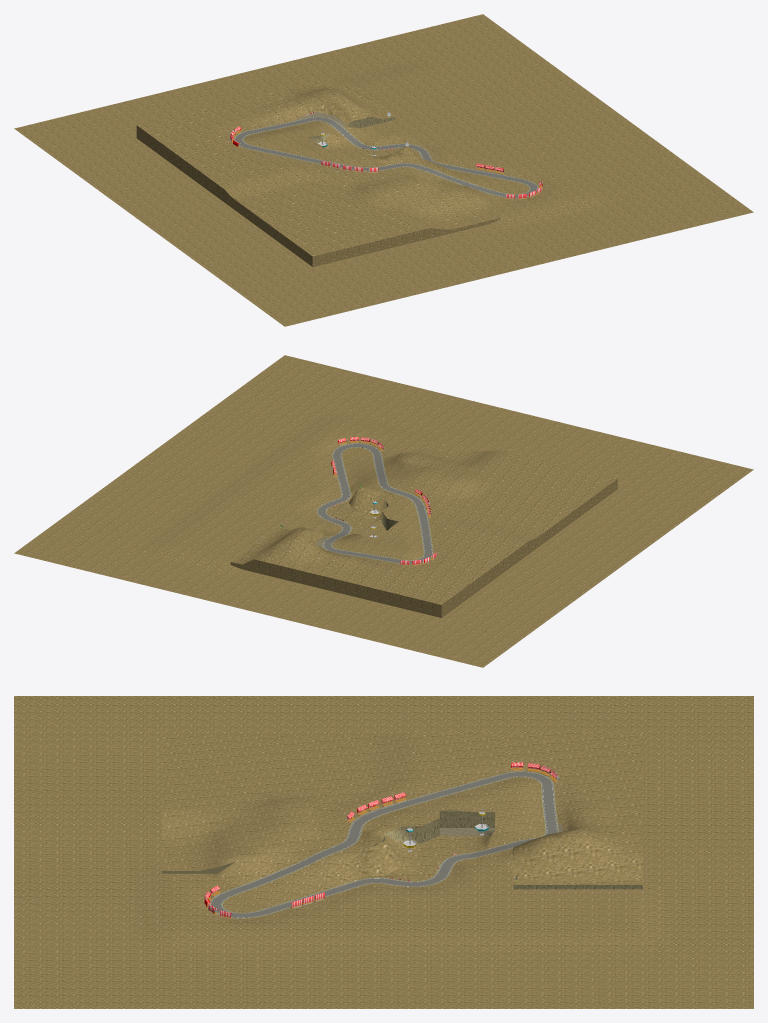
File: Planeta2.glb
3 views of the same model, one above another, from view 1: azimuth 30°, elevation 25°; view 2: azimuth 150°, elevation 25°; view 3: azimuth 270°, elevation 25° (orthographic). The views are drawn at different scales.
Parts seen in each view (by area): view 1: GravelPit-col_0; view 2: GravelPit-col_0; view 3: GravelPit-col_0.
Boxes of the visible parts, left/top/right/bottom form: GravelPit-col_0: left=14, top=14, right=753, bottom=326; GravelPit-col_0: left=14, top=355, right=753, bottom=667; GravelPit-col_0: left=14, top=696, right=753, bottom=1008.
Bounding box in the file's own units: 1000 × 51.2 × 1000.
27 materials, 15 textured.
